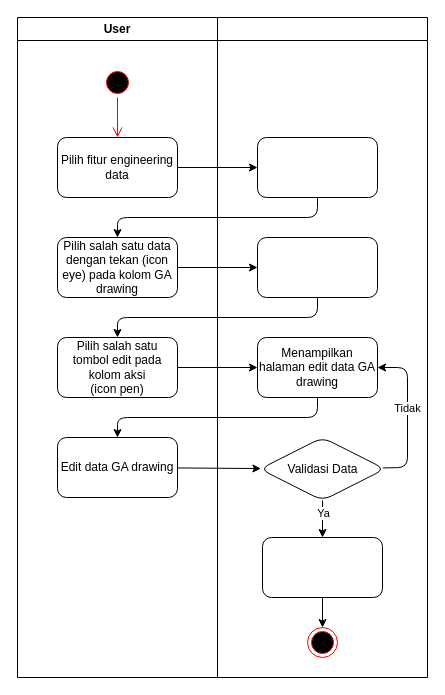
Image size: 445x695. Some labels were removed from this diagram. The box of each missing label's shape, as (x1, y1, x2, y2) in pixels:
Membuka halaman engineering data: (256, 136, 378, 198)
Membuka halaman GA drawing: (256, 236, 378, 298)
Perubahan data berhasil tersimpan: (262, 536, 382, 598)
Sistem: (216, 16, 428, 678)
